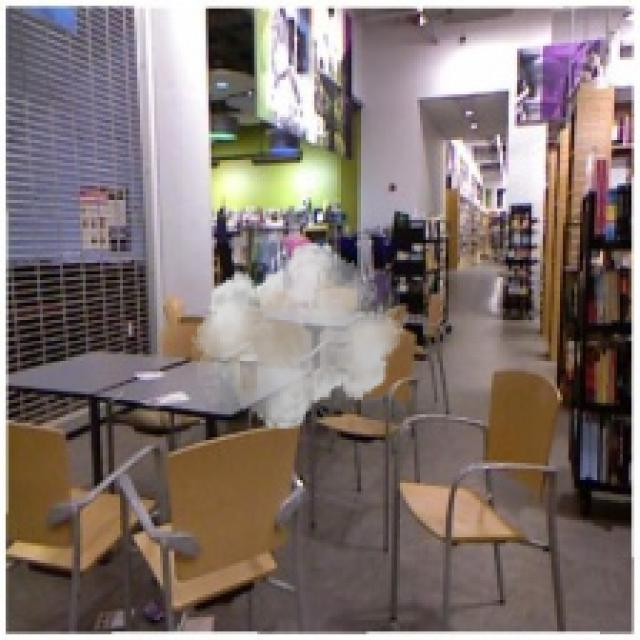smoke: (191, 234, 406, 437)
